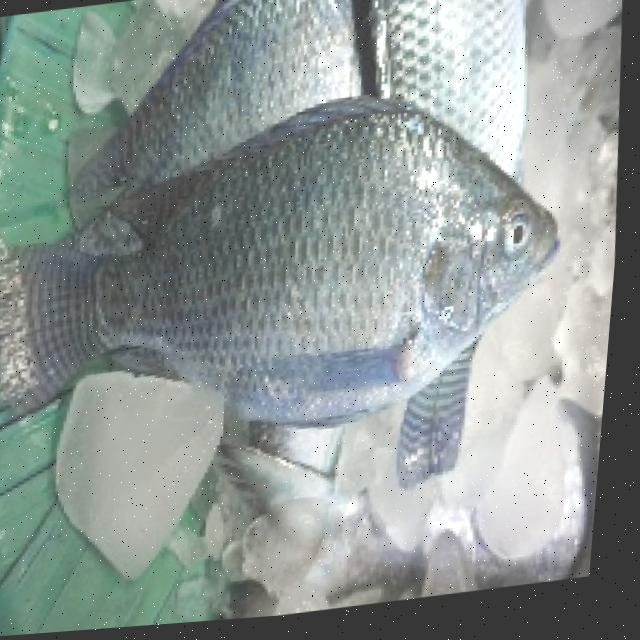Fresh: (81, 86, 594, 463)
